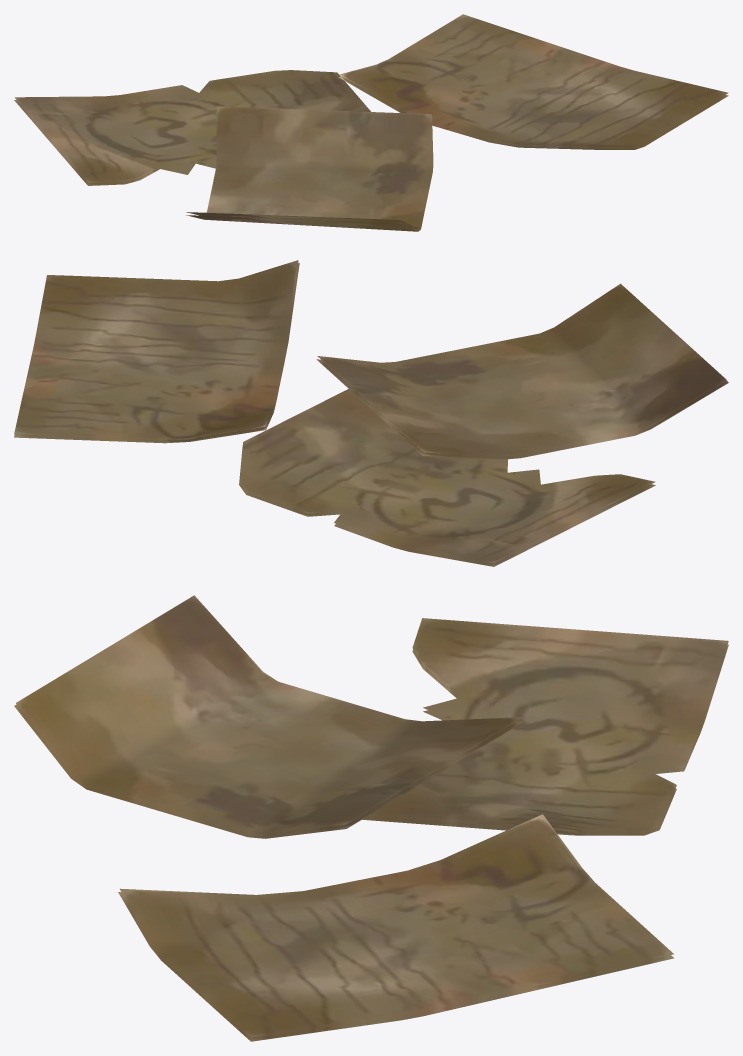
The picture shows the model from 3 angles, top to bottom: view 1: azimuth 30°, elevation 25°; view 2: azimuth 150°, elevation 25°; view 3: azimuth 270°, elevation 25°; orthographic projection. The views are drawn at different scales.
Visible parts, largest first — view 1: SM_DR_PaperStack_01_LOD0; view 2: SM_DR_PaperStack_01_LOD0; view 3: SM_DR_PaperStack_01_LOD0.
Part boxes in pixels (x1=…): SM_DR_PaperStack_01_LOD0: x1=14, y1=14, x2=728, y2=231; SM_DR_PaperStack_01_LOD0: x1=14, y1=260, x2=728, y2=566; SM_DR_PaperStack_01_LOD0: x1=14, y1=595, x2=728, y2=1041.
Bounding box in the file's own units: 0.7916 × 0.0541 × 0.5856.
Materials: 1 (1 with a texture image).
